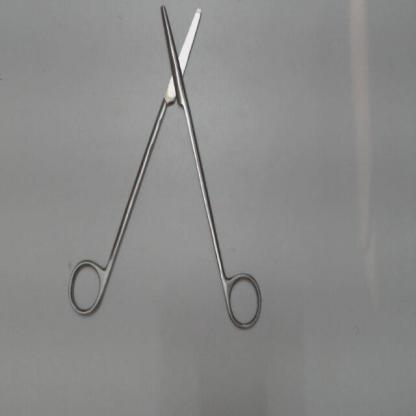9 Metzenbaum Scissors: (63, 1, 272, 338)
